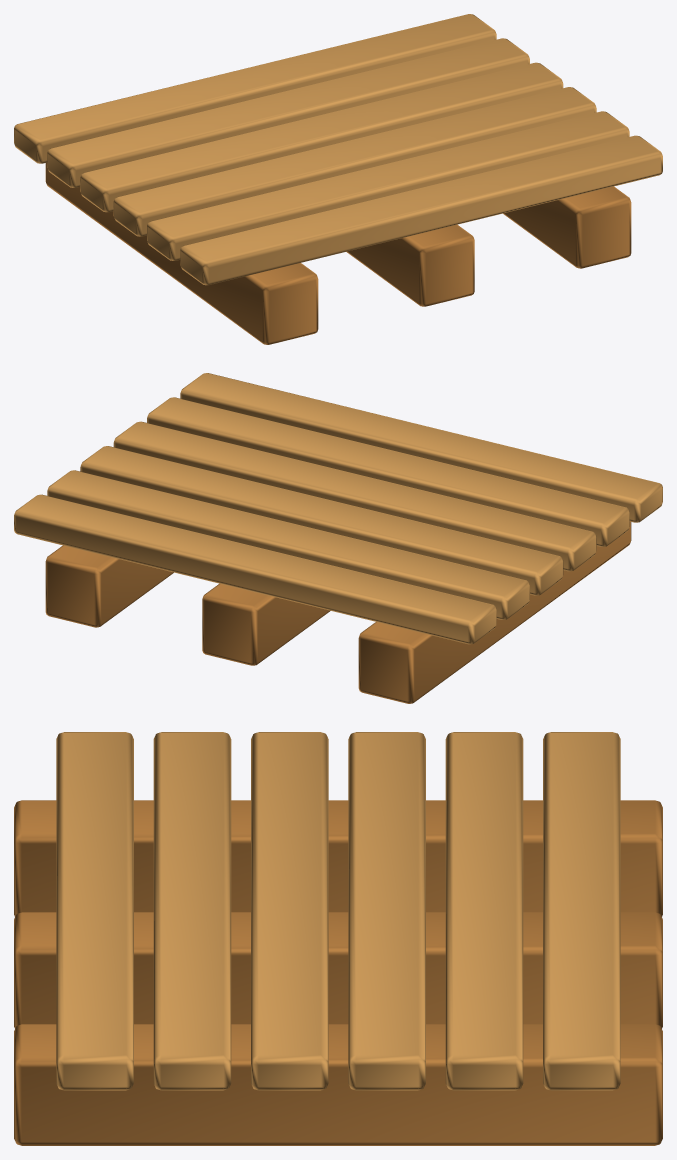
The model's file is warehouse-pallet.glb.
The picture shows the model from 3 angles, top to bottom: view 1: azimuth 30°, elevation 25°; view 2: azimuth 150°, elevation 25°; view 3: azimuth 270°, elevation 25°; orthographic projection. The views are drawn at different scales.
Visible parts, largest first — view 1: interior_4_woodLight.001, interior_4_wood; view 2: interior_4_woodLight.001, interior_4_wood; view 3: interior_4_woodLight.001, interior_4_wood.
Boxes of the visible parts, x1,y1,x2,y2 form: interior_4_woodLight.001: (14, 14, 662, 285); interior_4_wood: (45, 162, 631, 344); interior_4_woodLight.001: (14, 373, 662, 644); interior_4_wood: (45, 521, 631, 703); interior_4_woodLight.001: (56, 732, 620, 1090); interior_4_wood: (14, 800, 662, 1145).
Bounding box in the file's own units: 1.2 × 0.21 × 1.
